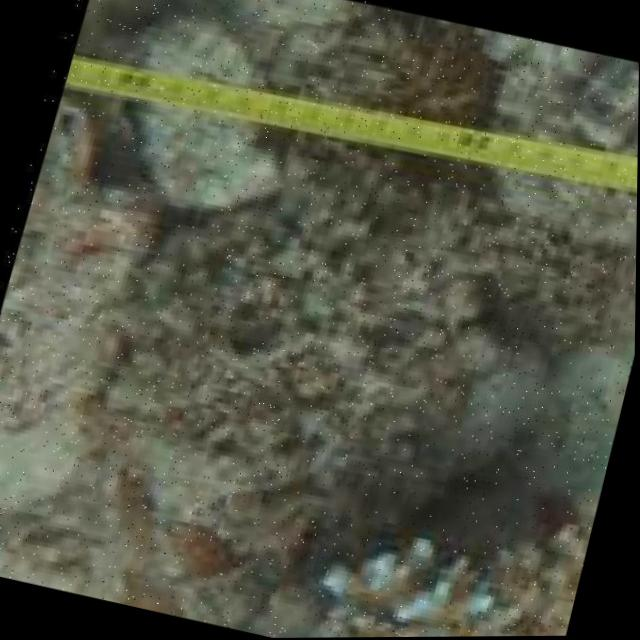Dead Coral: (98, 85, 536, 516)
